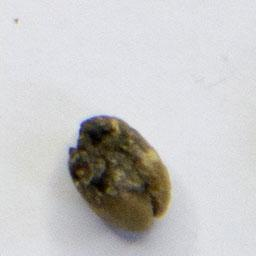defect: (65, 113, 173, 235)
